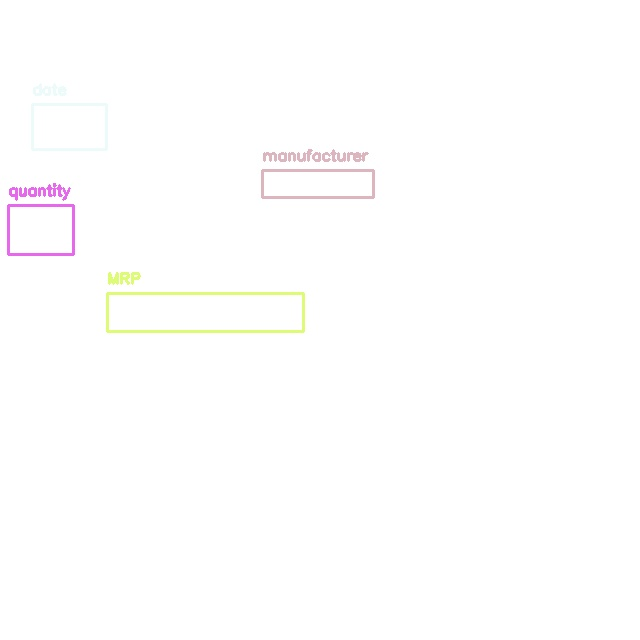MRP: (107, 293, 303, 331)
date: (32, 104, 106, 149)
manufacturer: (262, 170, 373, 197)
quantity: (8, 205, 73, 254)
